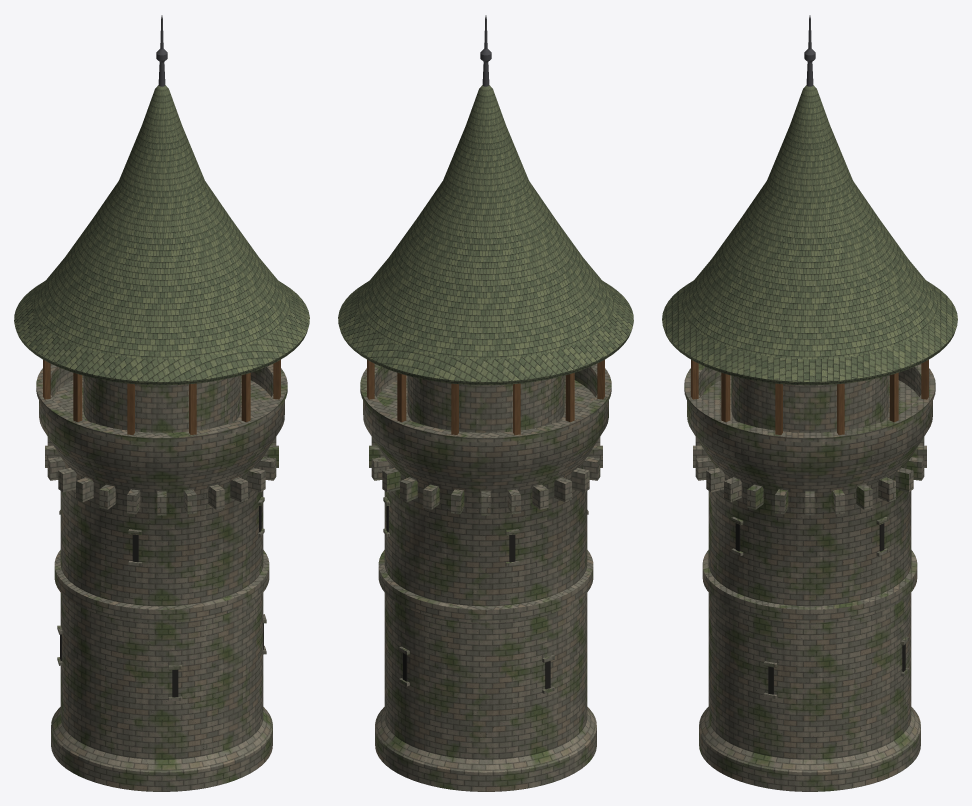
Rendered from castle_tower.glb.
3 views of the same model, side by side, from view 1: azimuth 30°, elevation 25°; view 2: azimuth 150°, elevation 25°; view 3: azimuth 270°, elevation 25° (orthographic).
Visible parts, largest first — view 1: castle_tower; view 2: castle_tower; view 3: castle_tower.
Boxes of the visible parts, x1,y1,x2,y2 form: castle_tower: [14, 15, 309, 791]; castle_tower: [338, 15, 633, 791]; castle_tower: [662, 15, 957, 791].
Bounding box in the file's own units: 12.4 × 33.8 × 12.4.
Materials: 5 (3 with a texture image).
